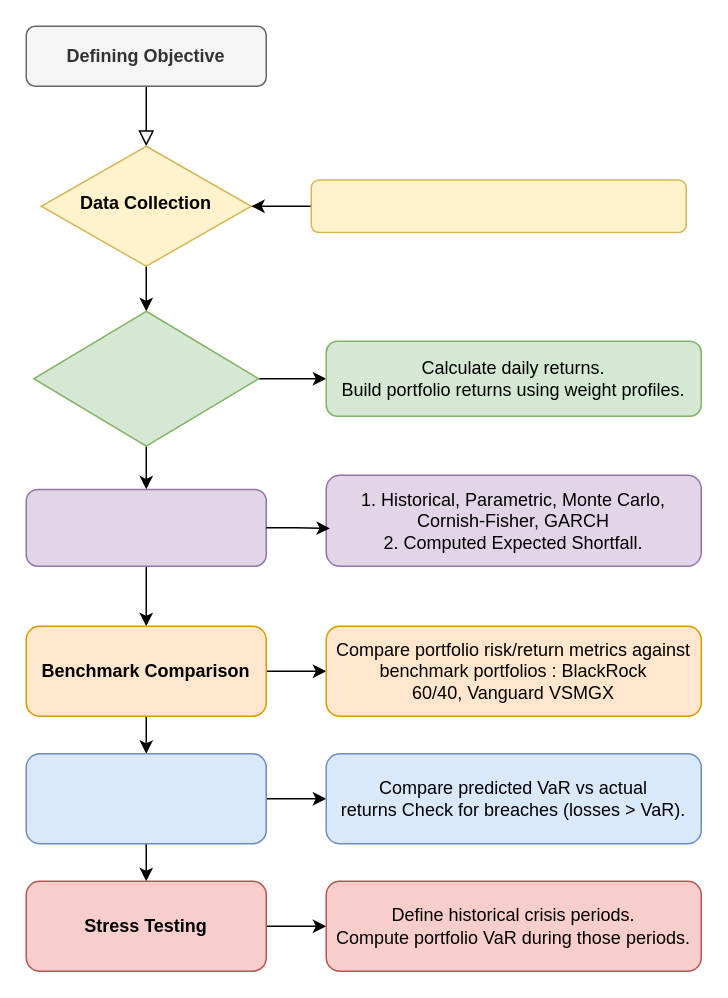
Some shapes in this 728 by 998 pixel diagram are drawn without their labels. Each missing label, with the centre of its shape:
Backtesting: the point at 145,798
Fetching asset prices using yfinance: the point at 498,205
Pre processing Data: the point at 145,378
VaR Calculation: the point at 145,527
